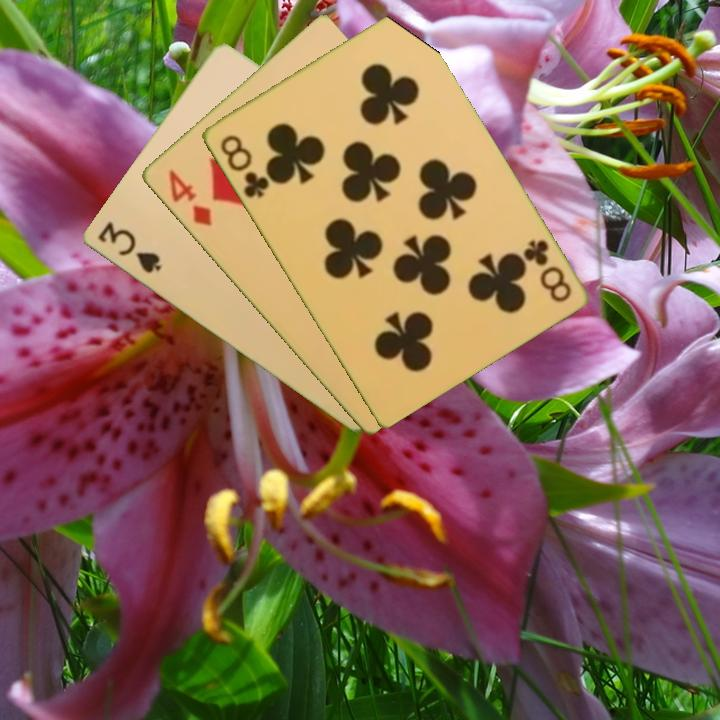3s: (93, 217, 164, 277)
4d: (164, 165, 214, 230)
8c: (216, 131, 272, 201), (519, 236, 574, 306)
